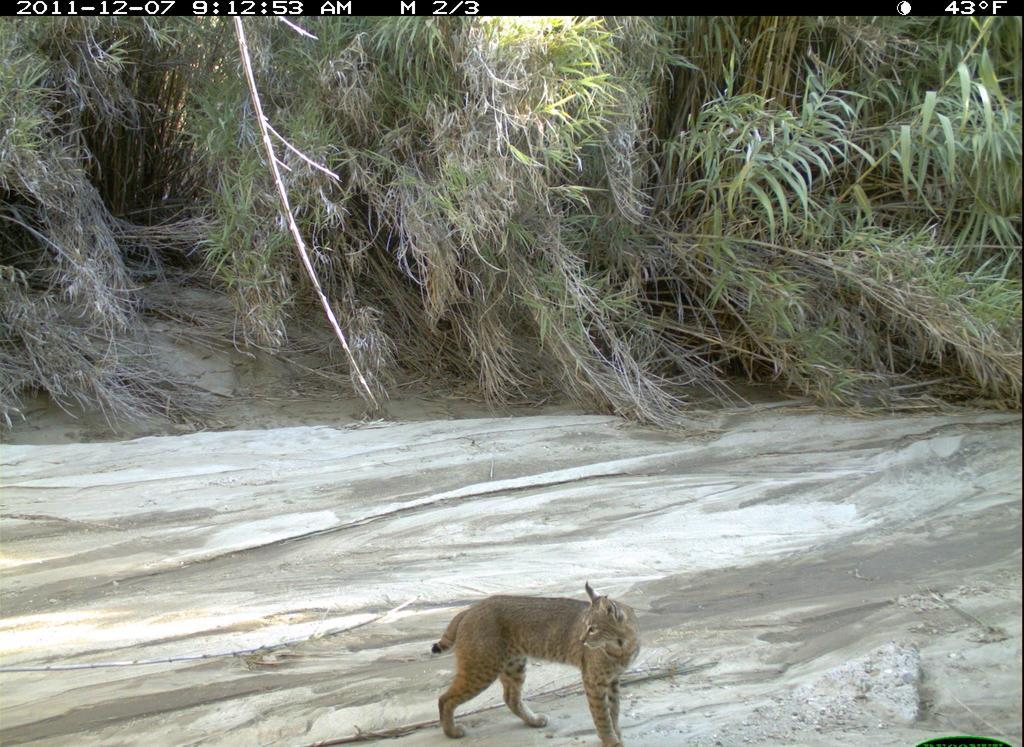bobcat: (427, 578, 646, 745)
